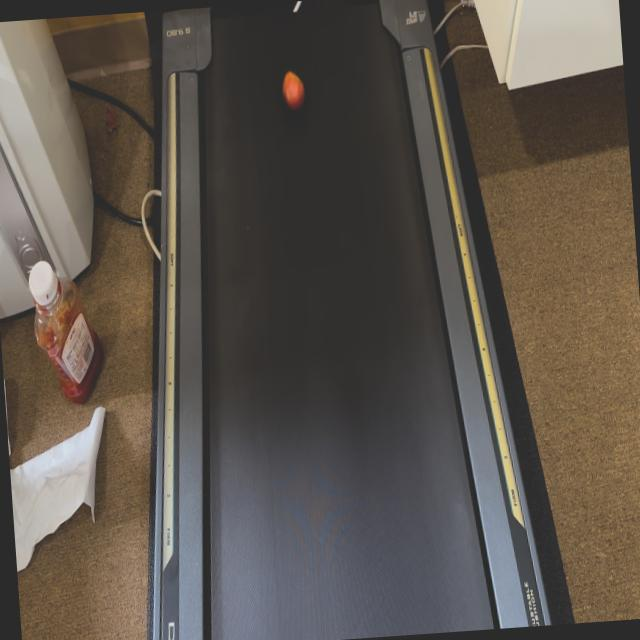Trash: (280, 69, 306, 115)
